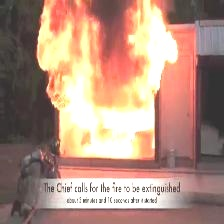fire: (38, 0, 181, 154)
